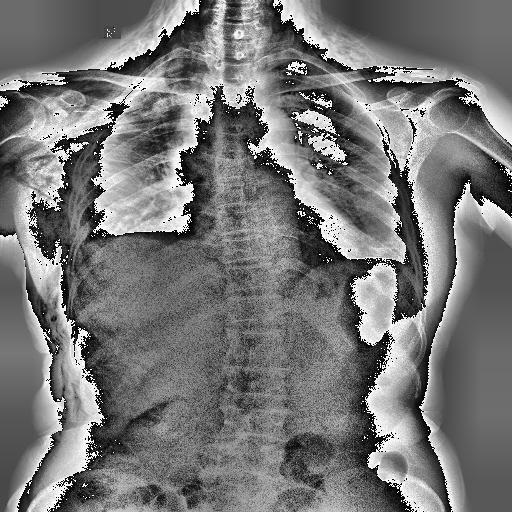0- Aortic enlargement: (242, 108, 298, 170), (242, 106, 300, 160)
11- Pleural thickening: (76, 56, 182, 186)
3- Cardiomegaly: (183, 216, 379, 262)
7- Lung Opacity: (137, 71, 211, 121), (135, 93, 173, 120)
8- Nodule-Mass: (170, 144, 212, 180), (364, 187, 372, 193)
9- Other lesion: (10, 88, 200, 258), (0, 136, 84, 418), (4, 116, 176, 214), (142, 6, 374, 68), (329, 142, 441, 257), (258, 0, 410, 81), (32, 258, 86, 448), (34, 232, 86, 422), (266, 0, 374, 69), (100, 6, 198, 72), (114, 4, 204, 68), (306, 153, 424, 199)
